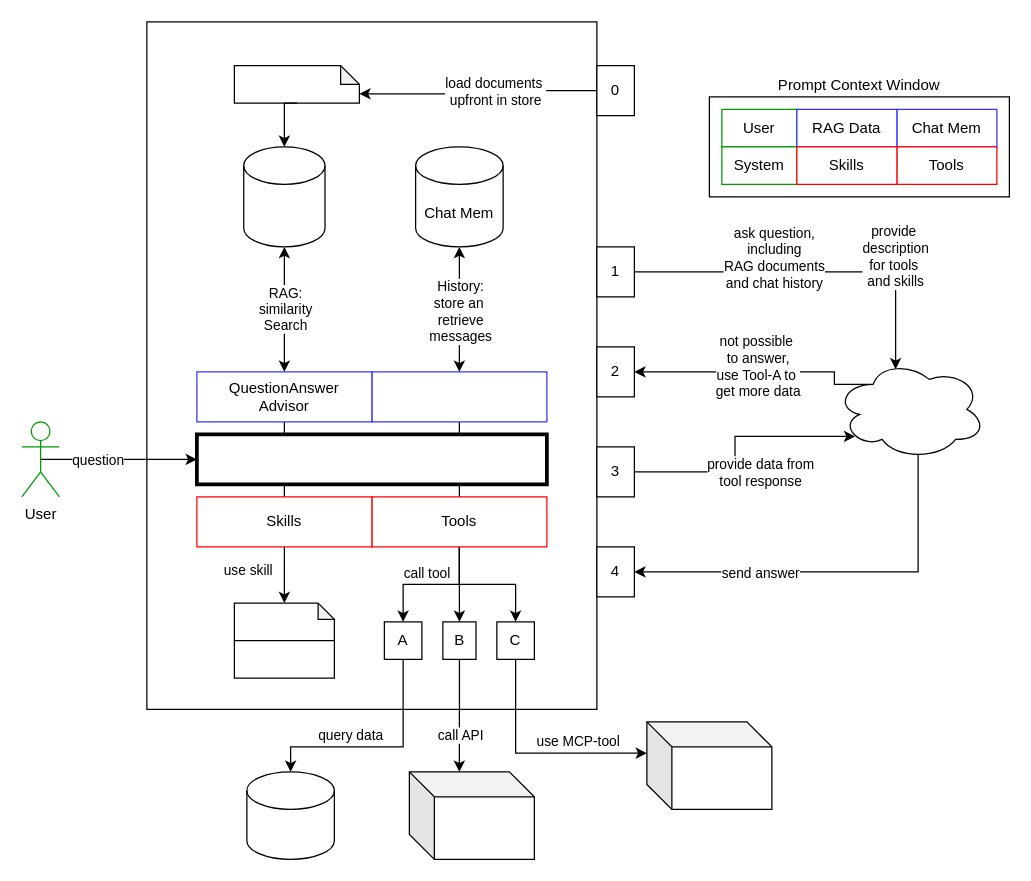
This 1031x881 diagram has some shape labels left out. The shapes that lost their labels are listed below. From the top down, each one's centre as x and y in pixels, then its label:
At point 296,83: "Documents".
At point 283,196: "Vector Store".
At point 459,396: "MessageChatMemory Advisor".
At point 910,408: "AI-Model".
At point 371,459: "ChatClient".
At point 283,621: "Skill.md".
At point 283,658: "script/CLI".
At point 709,765: "MCP-Server".
At point 290,815: "DB".
At point 471,815: "external Service".
